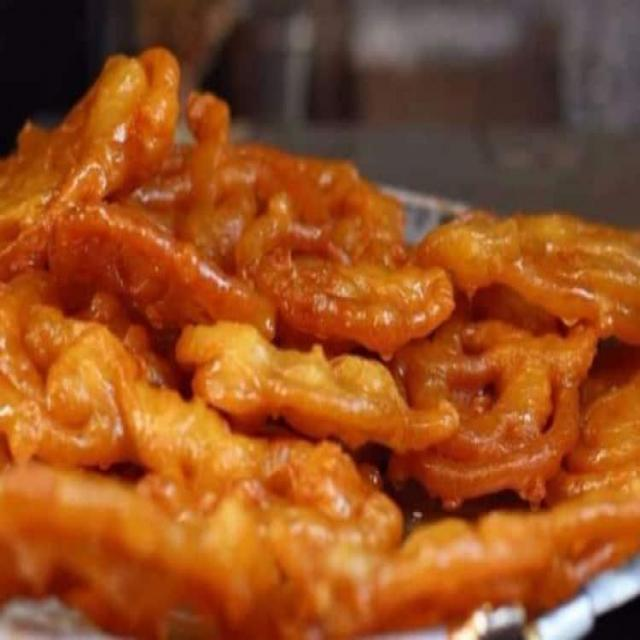jalebi: (4, 79, 635, 629)
